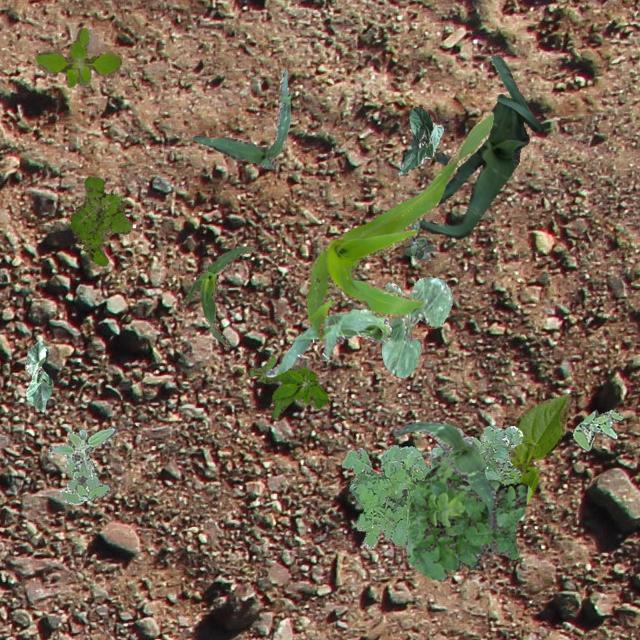crop: (304, 110, 492, 340), (418, 54, 540, 238), (392, 420, 496, 530), (192, 68, 290, 168), (264, 308, 392, 377), (180, 246, 253, 350), (380, 276, 450, 376), (507, 392, 569, 493), (398, 105, 442, 173), (24, 340, 52, 410)
weed: (340, 424, 522, 548), (406, 450, 530, 580), (68, 174, 130, 266), (48, 424, 116, 504), (34, 27, 120, 86), (246, 356, 328, 416), (572, 408, 622, 449), (404, 220, 432, 258)
